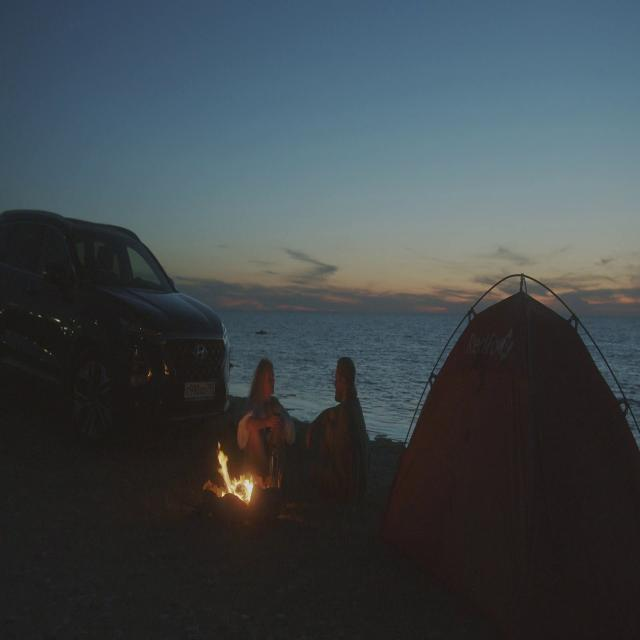Fire: (214, 439, 254, 507)
